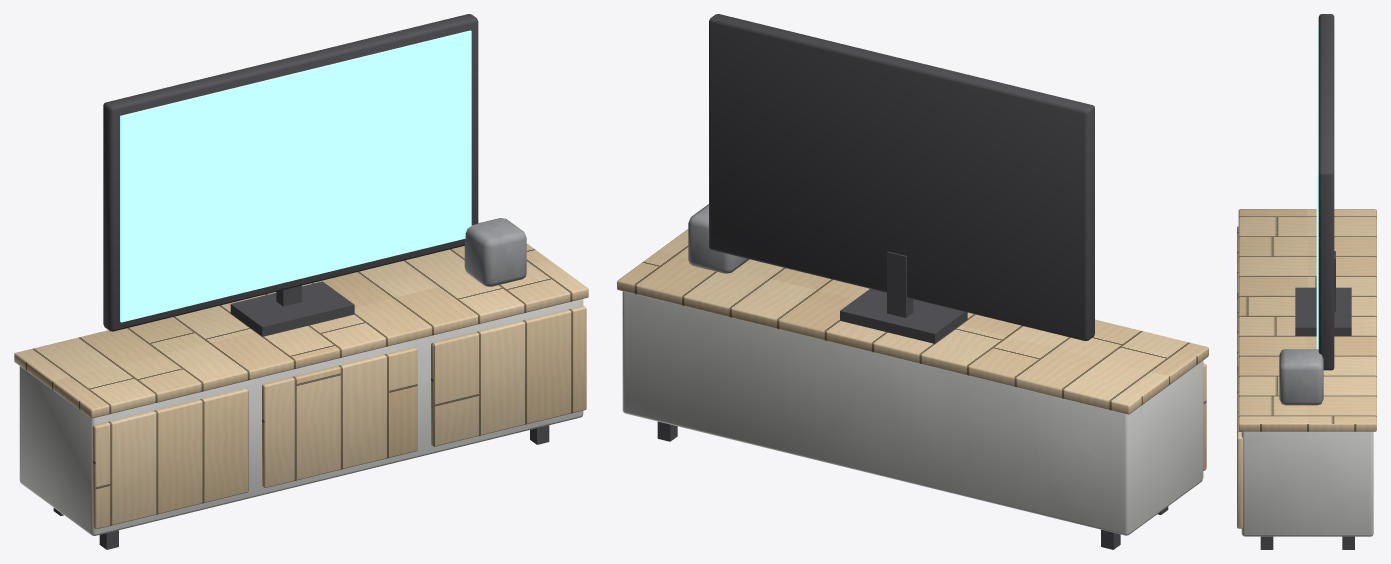
The picture shows the model from 3 angles, left to right: view 1: azimuth 30°, elevation 25°; view 2: azimuth 150°, elevation 25°; view 3: azimuth 270°, elevation 25°; orthographic projection. The views are drawn at different scales.
Visible parts, largest first — view 1: Decor_tv_bench; view 2: Decor_tv_bench; view 3: Decor_tv_bench.
Boxes of the visible parts, <box> form: Decor_tv_bench: <box>14,14,588,549</box>; Decor_tv_bench: <box>617,14,1208,549</box>; Decor_tv_bench: <box>1237,14,1376,549</box>.
Size of the model in its own units: 1.62 by 1.27 by 0.445.
5 materials, 3 textured.
